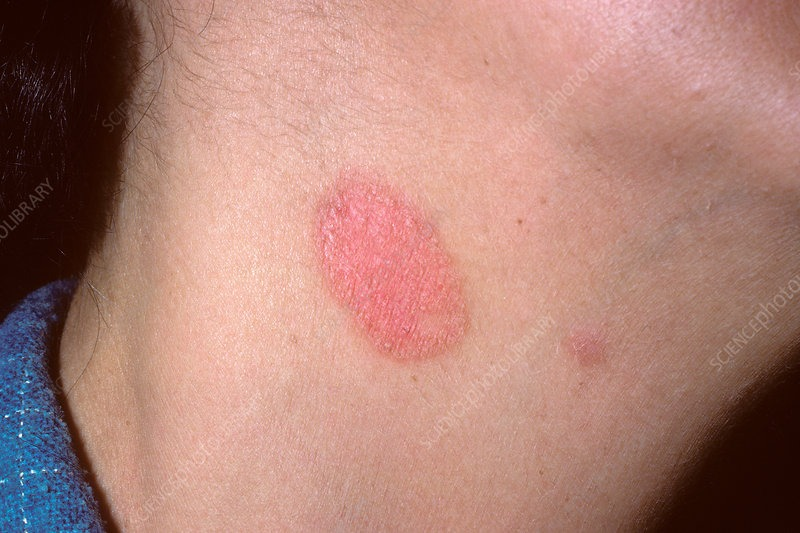Ringworm: (301, 171, 490, 371), (563, 324, 616, 379)
